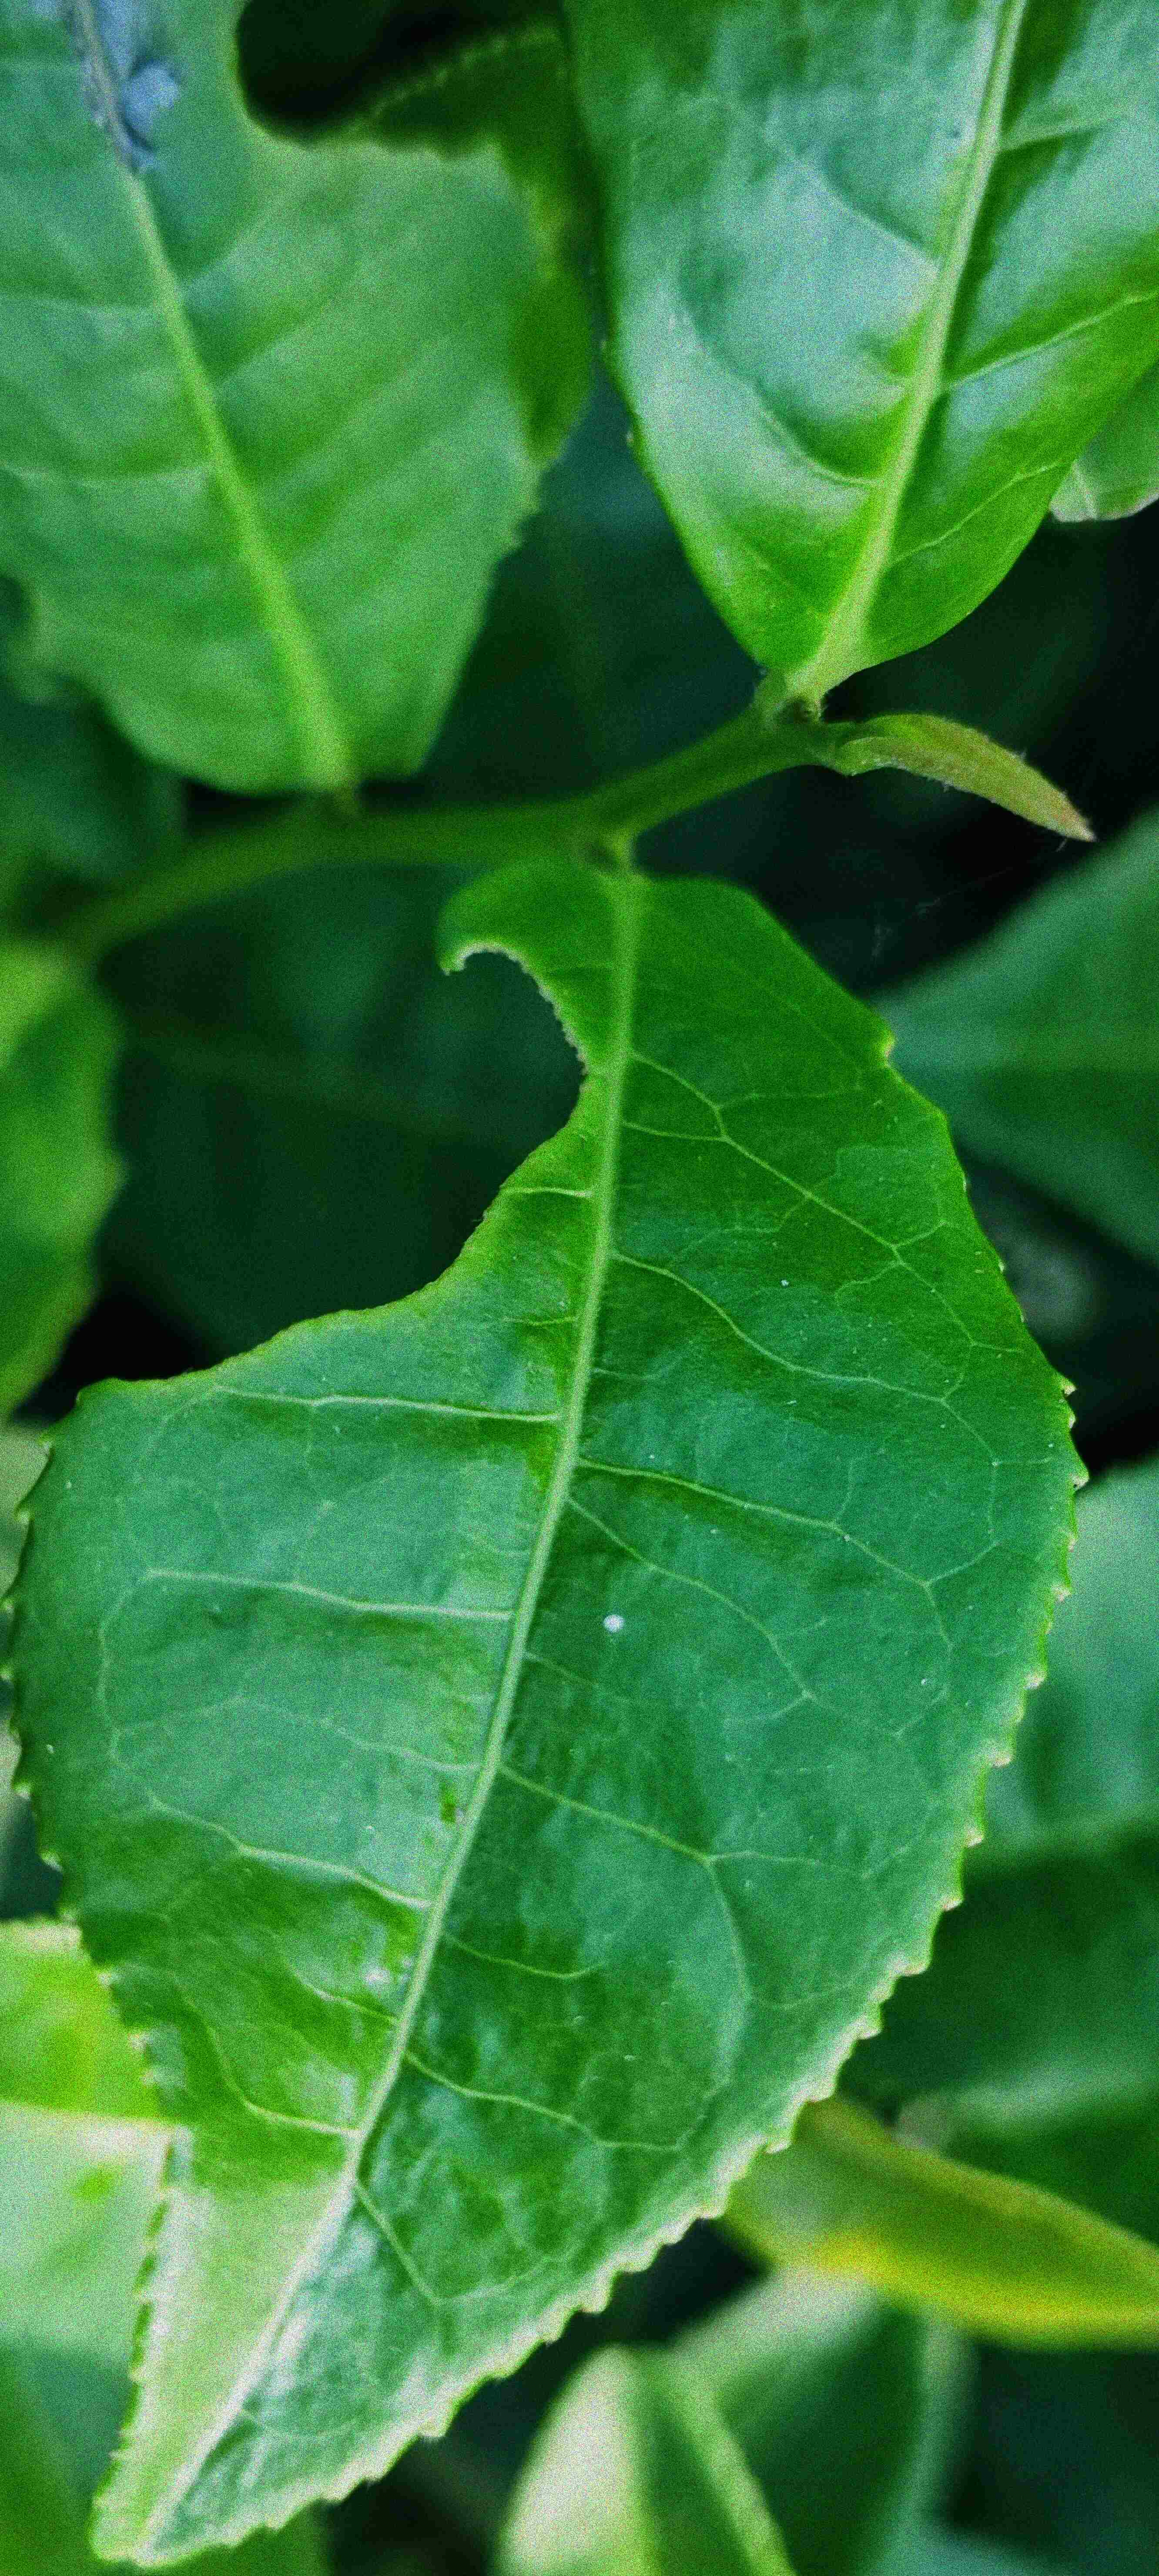chihuo_low: (8, 851, 1093, 2564), (0, 8, 596, 790)
healthy: (576, 10, 1154, 682)
